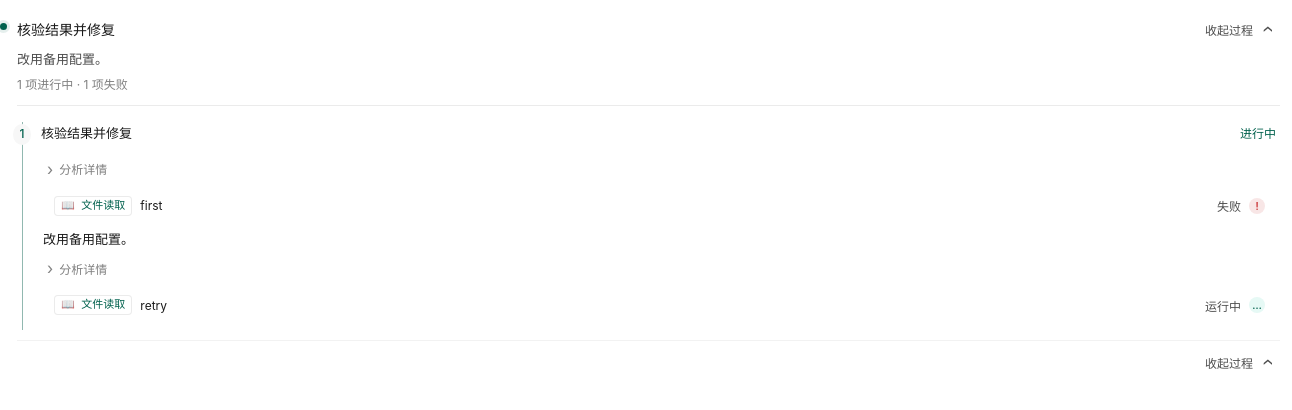
Test: assistant execution process › 跨生成的真实计划保持原始事件顺序，分析详情独立折叠
Check: the text with class "execution-process__stage-index" reads "1", box [20,126,24,142]
Check: the text "检查原配置" is not shown
Click the 1st heading "分析详情" at x=77, y=169, box [47,155,107,183]
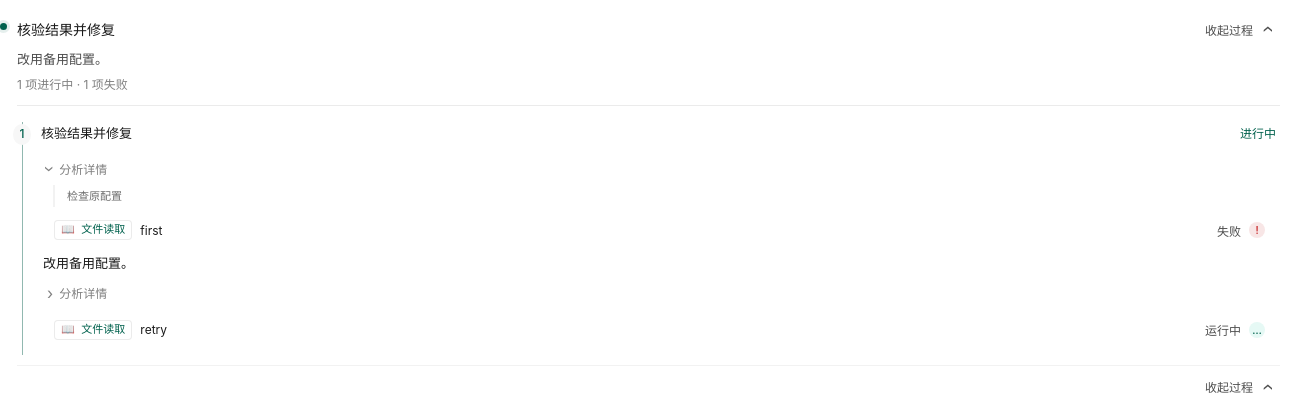
Check: the text "检查原配置" is shown, box [67,189,122,203]
